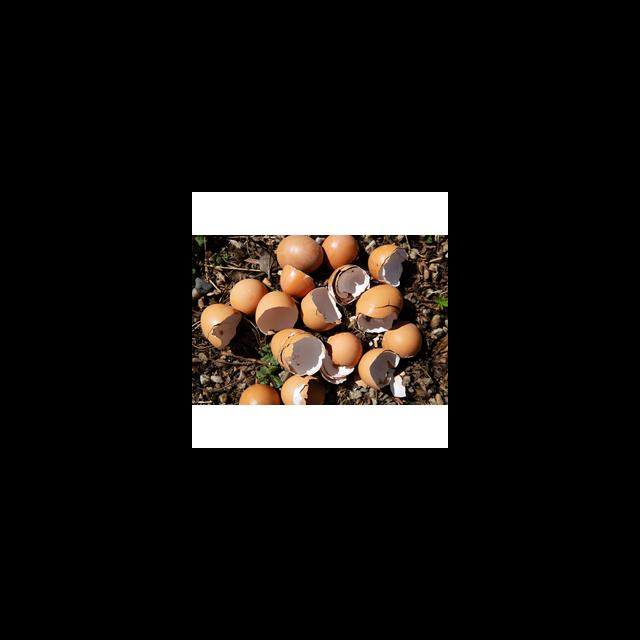food_waste: (354, 334, 437, 416), (272, 327, 341, 389), (257, 292, 314, 346), (270, 220, 319, 277), (355, 283, 415, 328), (192, 344, 237, 404), (223, 269, 269, 318), (368, 312, 430, 348), (369, 234, 409, 283), (272, 267, 333, 298), (317, 234, 360, 273), (198, 306, 232, 354), (233, 376, 272, 409)
